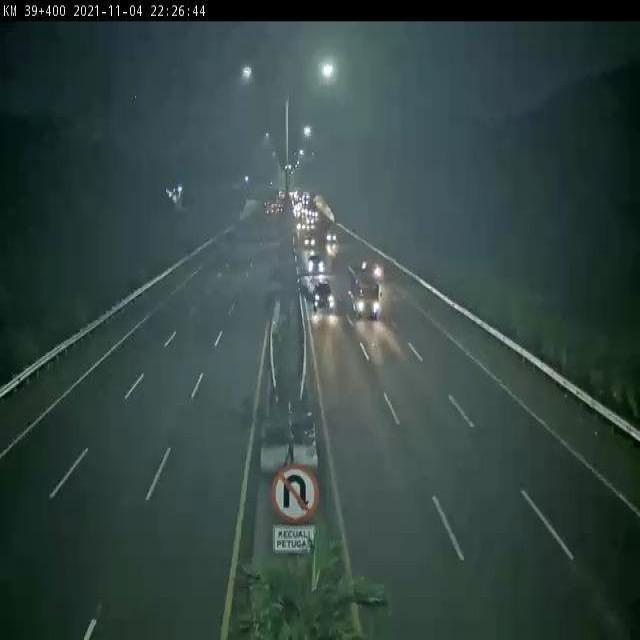car: (305, 271, 333, 311)
truck: (344, 252, 381, 319)
